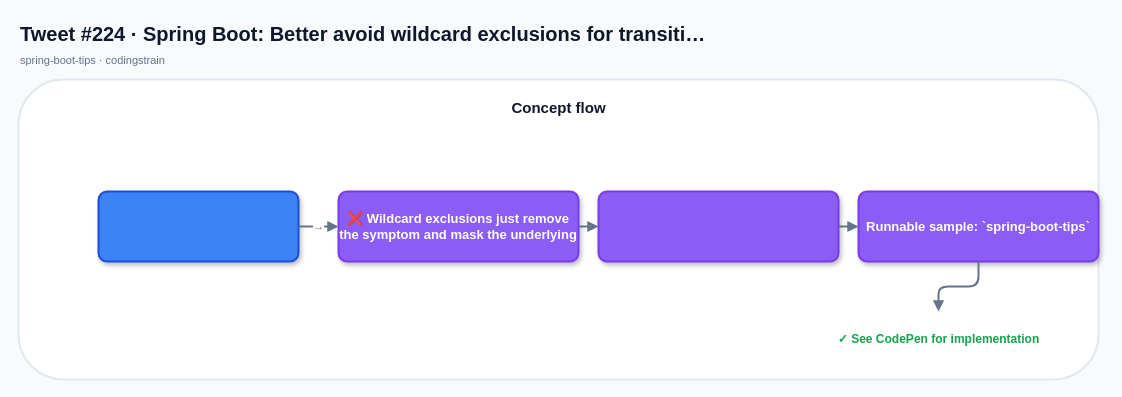
Image size: 1122x397. Some labels were removed from this diagram. Here are the shapes that lost their labels. From the top down, the centre of each, then its label:
At pixel 199 227: "Problem / context".
At pixel 719 227: "#SpringBoot #JavaDev".
